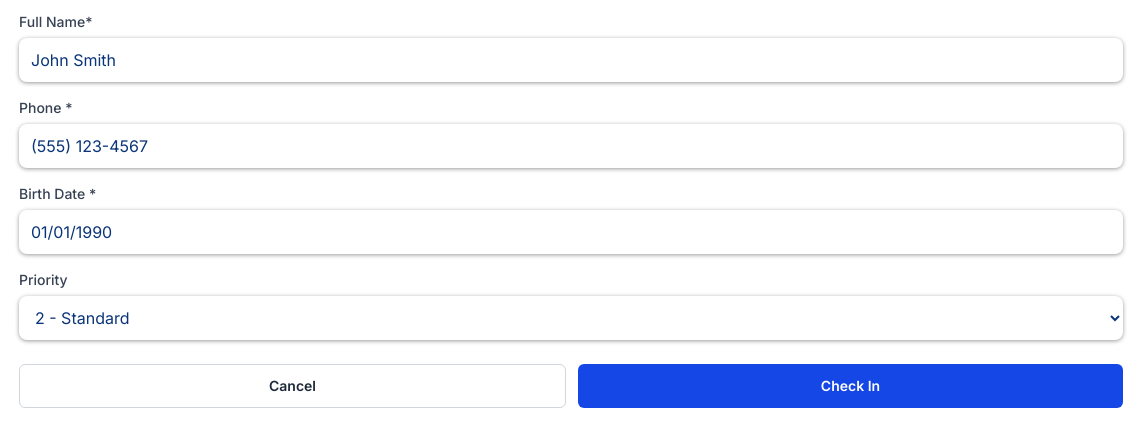
NewPatientCheckInForm › handles phone number formatting
This screenshot has width=1143, height=425.
Replace the text in the field showing "(555) 123-4567" with "5558887777" at (571,146), box left=19, top=124, right=1123, bottom=168
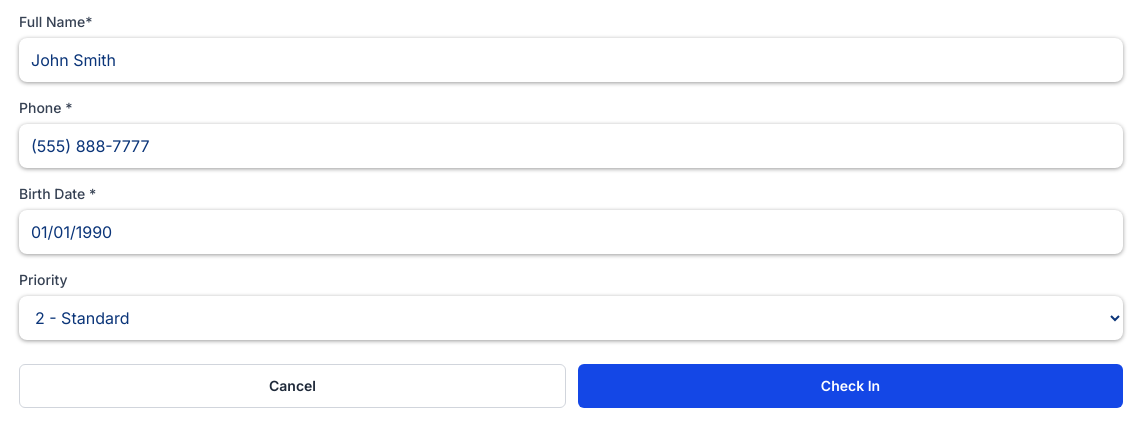
Check: the field showing "(555) 123-4567" holds "(555) 888-7777", box left=19, top=124, right=1123, bottom=168
